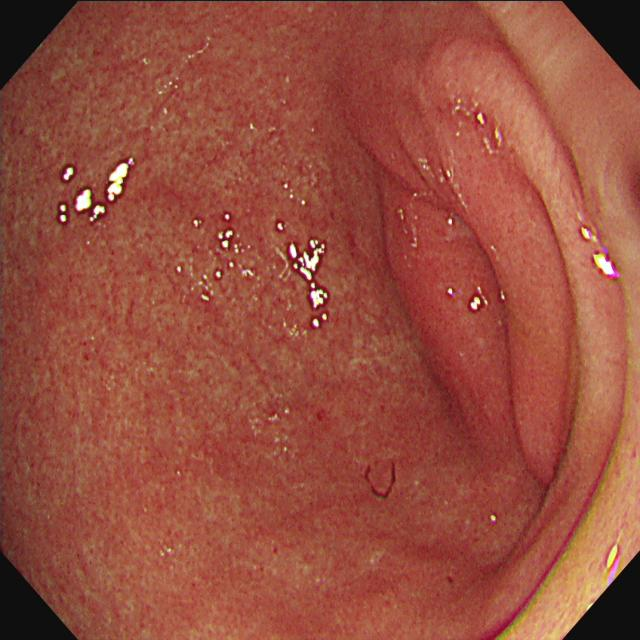U: (287, 240, 330, 312), (108, 156, 135, 202), (74, 189, 107, 222), (591, 251, 622, 281), (607, 542, 622, 584), (471, 286, 489, 312), (579, 227, 599, 245), (310, 312, 329, 330), (219, 231, 234, 250), (59, 204, 69, 226), (63, 166, 76, 182)
